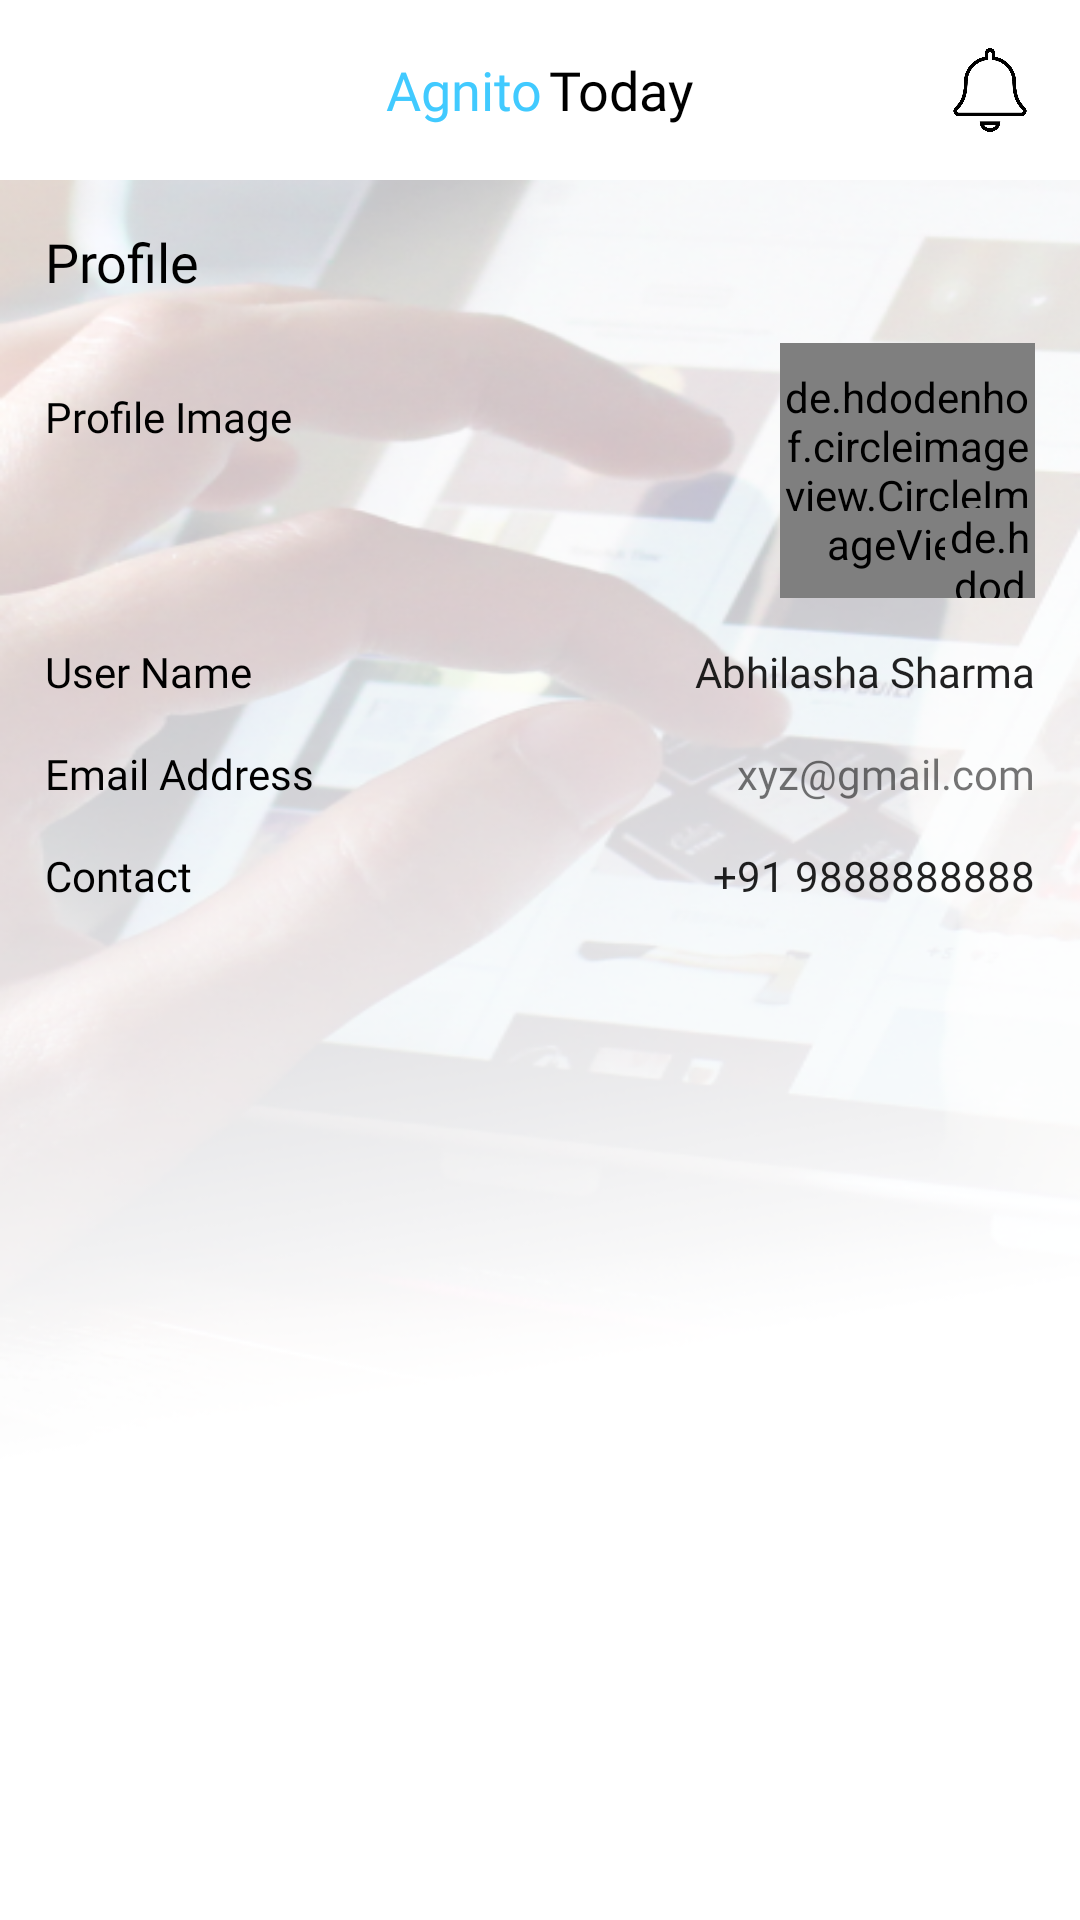

Screen size 1080px x 1920px. Icon name, then its center in pixels as [x,y]:
notification: [990,90]
